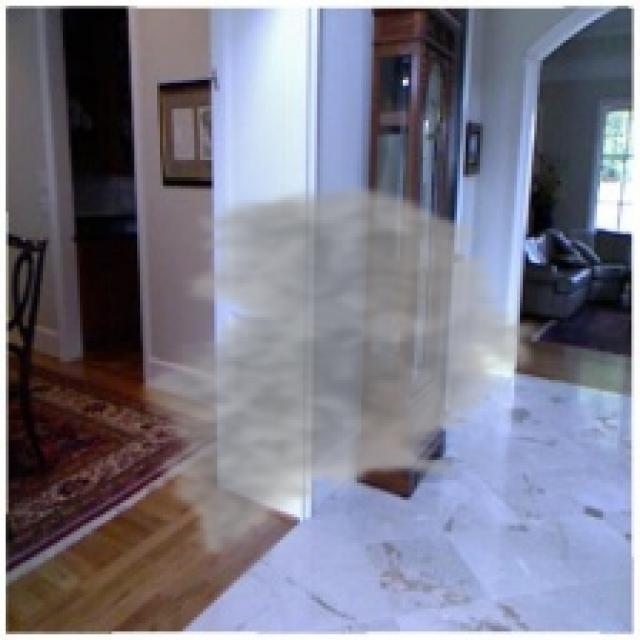Smoke: (128, 180, 552, 560)
